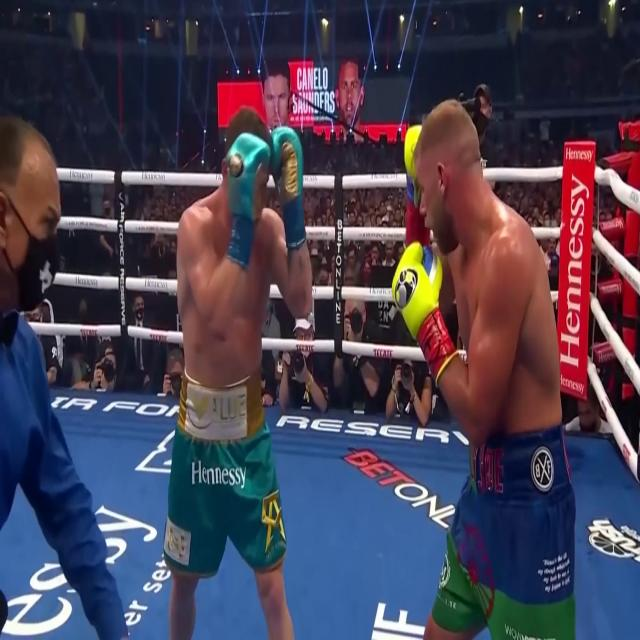boxer_1: (415, 102, 562, 434)
boxer_2: (178, 108, 269, 414)
gloves_1: (392, 124, 456, 377)
gloves_2: (226, 127, 305, 267)
